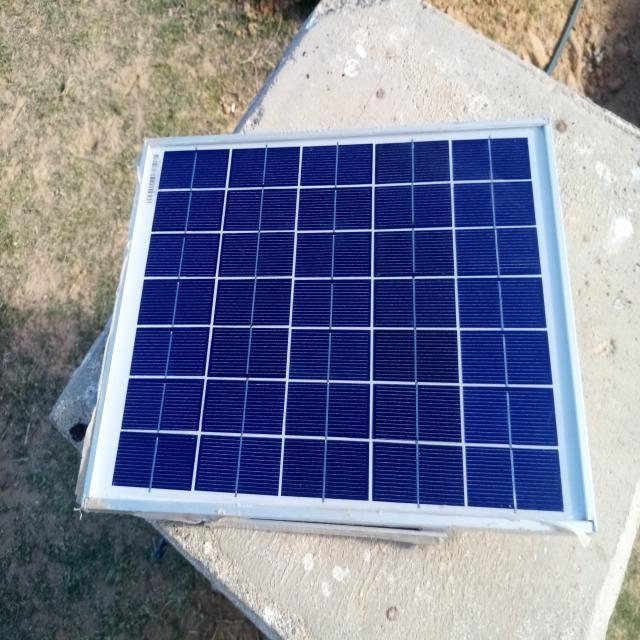no faulty: (80, 121, 592, 521)
